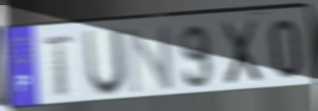0: (266, 17, 305, 81)
9: (178, 23, 214, 90)
N: (125, 23, 176, 97)
T: (41, 34, 78, 99)
U: (81, 25, 128, 99)
X: (218, 17, 264, 88)
